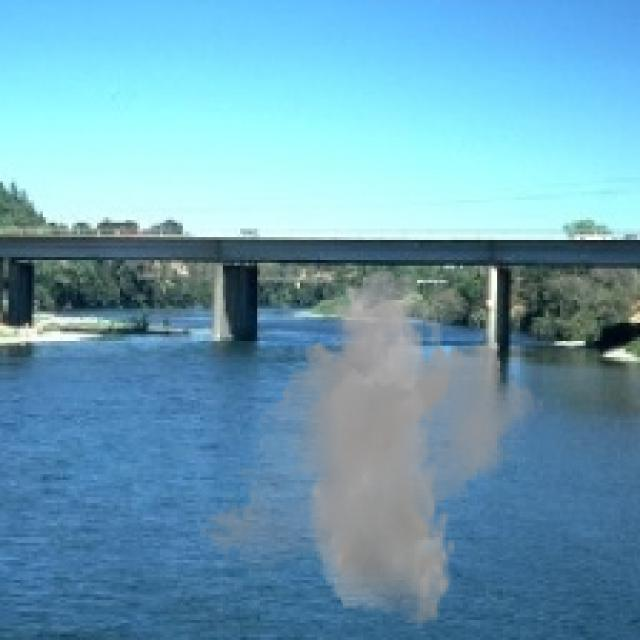smoke: (197, 268, 546, 628)
